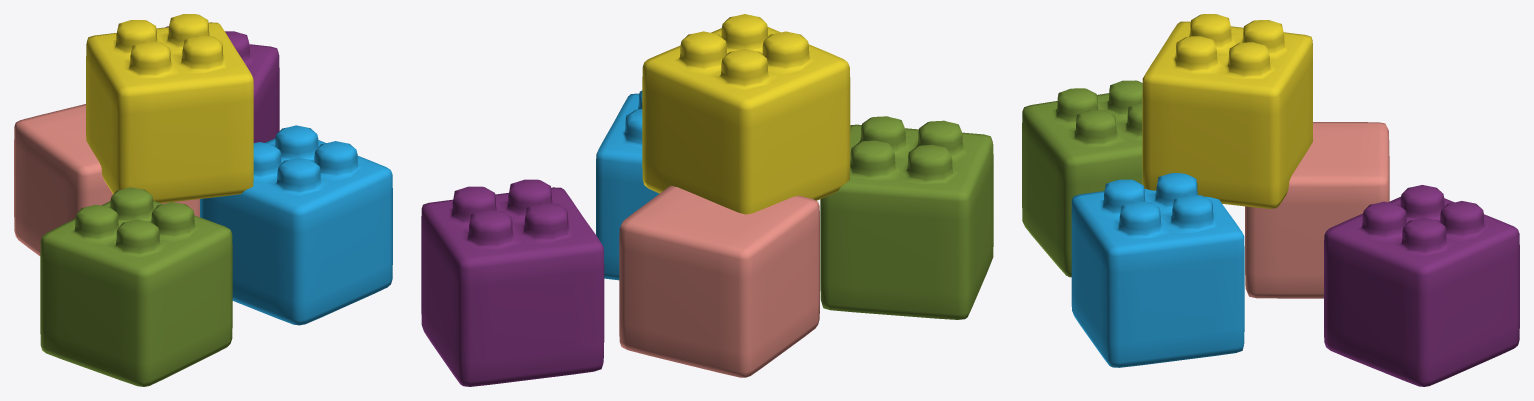
File: cubes.fbx
The picture shows the model from 3 angles, left to right: view 1: azimuth 30°, elevation 25°; view 2: azimuth 150°, elevation 25°; view 3: azimuth 270°, elevation 25°; orthographic projection. The views are drawn at different scales.
Parts seen in each view (by area): view 1: Cube.005, Cube.006, Cube.004, Cube.002, Cube.008; view 2: Cube.006, Cube.008, Cube.002, Cube.005, Cube.004; view 3: Cube.008, Cube.004, Cube.006, Cube.002, Cube.005.
Boxes of the visible parts, <box> form: Cube.005: <box>40,187,232,386</box>; Cube.006: <box>86,14,253,203</box>; Cube.004: <box>200,125,392,325</box>; Cube.002: <box>14,104,199,255</box>; Cube.008: <box>166,26,279,142</box>; Cube.006: <box>642,14,850,214</box>; Cube.008: <box>421,179,604,386</box>; Cube.002: <box>619,186,819,377</box>; Cube.005: <box>820,116,993,319</box>; Cube.004: <box>596,90,659,280</box>; Cube.008: <box>1324,185,1519,386</box>; Cube.004: <box>1071,173,1244,367</box>; Cube.006: <box>1142,14,1312,208</box>; Cube.002: <box>1245,122,1389,298</box>; Cube.005: <box>1022,80,1142,277</box>.
Bounding box in the file's own units: 585 × 379 × 667.
